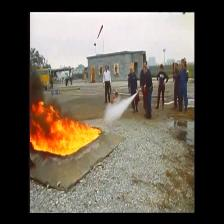fire: (28, 94, 95, 189)
